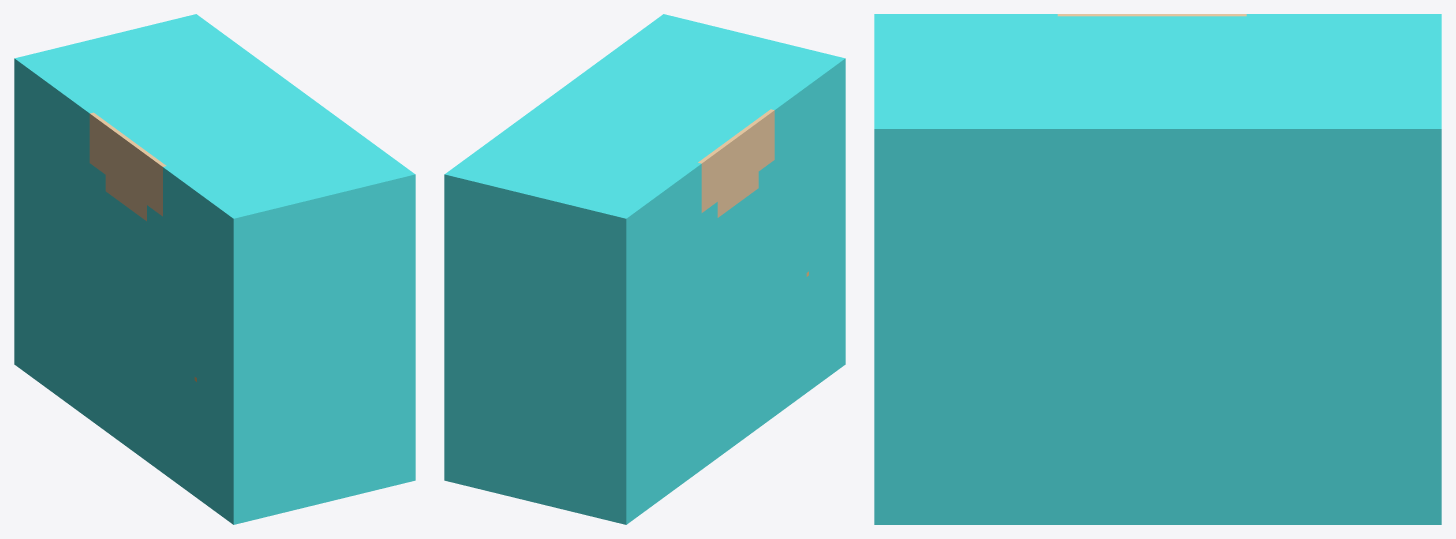
The model's file is noobioriginal-0.obj.
The picture shows the model from 3 angles, left to right: view 1: azimuth 30°, elevation 25°; view 2: azimuth 150°, elevation 25°; view 3: azimuth 270°, elevation 25°; orthographic projection. The views are drawn at different scales.
Size of the model in its own units: 4.6 by 7.4 by 9.6.
1 material, 1 textured.
